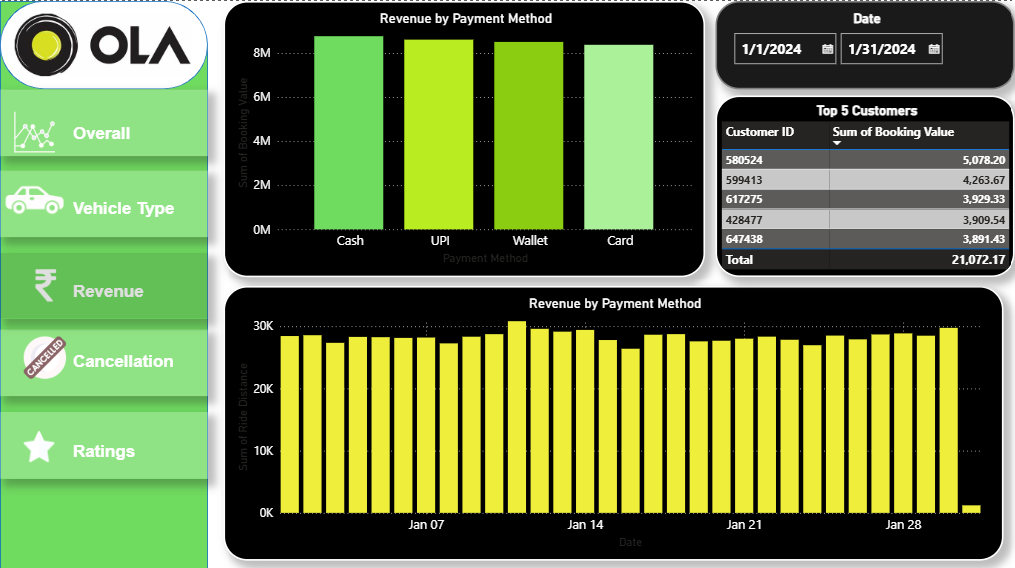

The page's visual inventory and layout, read from the dashboard file:
{"tool":"powerbi","page":{"name":"Revenue","canvas":[1280,720],"ordinal":2},"visuals":[{"type":"shape","box":[0,0,261.9,720.6],"z":0},{"type":"shape","box":[0,0,261.9,111.1],"z":1000},{"type":"image","box":[12.7,0,231.7,111.1],"z":2000},{"type":"image","box":[0,133.3,87.3,61.9],"z":3000},{"type":"textbox","box":[87.3,149.2,104.8,46],"z":4000},{"type":"textbox","box":[87.3,244.4,157.1,54],"z":5000},{"type":"textbox","box":[87.3,347.6,174.6,36.5],"z":6000},{"type":"textbox","box":[87.3,436.5,146,39.7],"z":7000},{"type":"textbox","box":[87.3,549.2,174.6,41.3],"z":8000},{"type":"image","box":[0,214.3,87.3,84.1],"z":9000},{"type":"image","box":[0,333.3,115.9,50.8],"z":10000},{"type":"image","box":[23.8,412.7,63.5,74.6],"z":11000},{"type":"image","box":[23.8,530.2,49.2,60.3],"z":12000},{"type":"columnChart","title":"Revenue by Payment Method","fields":{"Y":["Sum(indore ola dataset(1).Booking Value)"],"Category":["indore ola dataset(1).Payment Method"]},"box":[281.6,0,606.6,347.7],"z":13000},{"type":"actionButton","box":[0,414.5,262.3,84.2],"z":14000},{"type":"actionButton","box":[0,518.2,262.3,84.2],"z":15000},{"type":"actionButton","box":[0,213.7,262.3,84.2],"z":16000},{"type":"actionButton","box":[0,317.4,262.3,82.6],"z":17000},{"type":"actionButton","box":[0,111.7,262.3,84.2],"z":18000},{"type":"columnChart","title":"Revenue by Payment Method","fields":{"Y":["Sum(indore ola dataset(1).Ride Distance)"],"Category":["indore ola dataset(1).Date"]},"box":[281.6,359.1,982.7,345.8],"z":19000},{"type":"slicer","title":"Date","fields":{"Values":["indore ola dataset(1).Date"]},"box":[901.4,0,378,111.5],"z":20000},{"type":"tableEx","title":"Top 5 Customers","fields":{"Values":["indore ola dataset(1).Customer ID","Sum(indore ola dataset(1).Booking Value)"]},"box":[901.4,119.1,378,228.7],"z":21000}]}

Visuals, with their boxes in screenshot pixels (x1, y1, x2, y2), scaled from the page's 1280x720 canvas onto the 1015x568 screenshot:
shape: BBox(0, 0, 208, 567)
shape: BBox(0, 0, 208, 88)
image: BBox(10, 0, 194, 88)
image: BBox(0, 105, 69, 154)
textbox: BBox(69, 118, 152, 154)
textbox: BBox(69, 193, 194, 235)
textbox: BBox(69, 274, 208, 303)
textbox: BBox(69, 344, 185, 376)
textbox: BBox(69, 433, 208, 466)
image: BBox(0, 169, 69, 235)
image: BBox(0, 263, 92, 303)
image: BBox(19, 326, 69, 384)
image: BBox(19, 418, 58, 466)
"Revenue by Payment Method" columnChart: BBox(223, 0, 704, 274)
actionButton: BBox(0, 327, 208, 393)
actionButton: BBox(0, 409, 208, 475)
actionButton: BBox(0, 169, 208, 235)
actionButton: BBox(0, 250, 208, 316)
actionButton: BBox(0, 88, 208, 155)
"Revenue by Payment Method" columnChart: BBox(223, 283, 1003, 556)
"Date" slicer: BBox(715, 0, 1014, 88)
"Top 5 Customers" tableEx: BBox(715, 94, 1014, 274)
